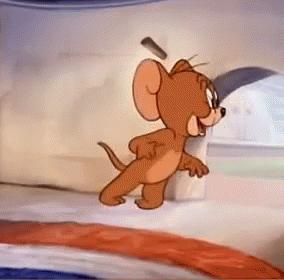jerry: (96, 54, 227, 211)
